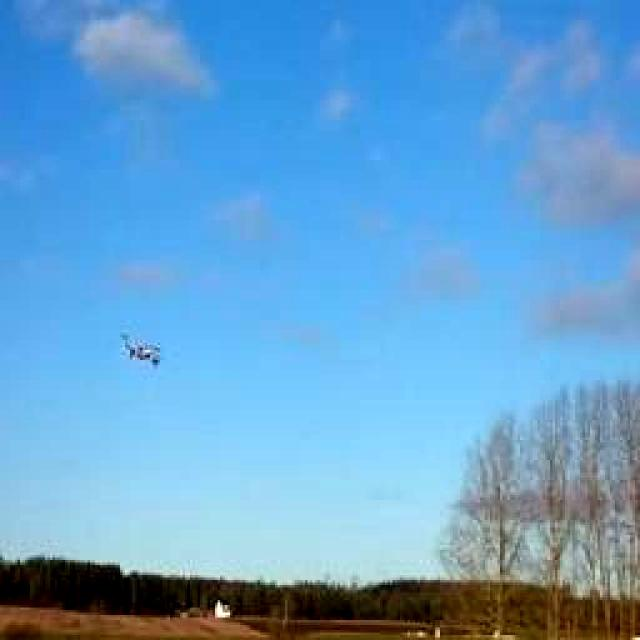bird: (100, 321, 180, 381)
